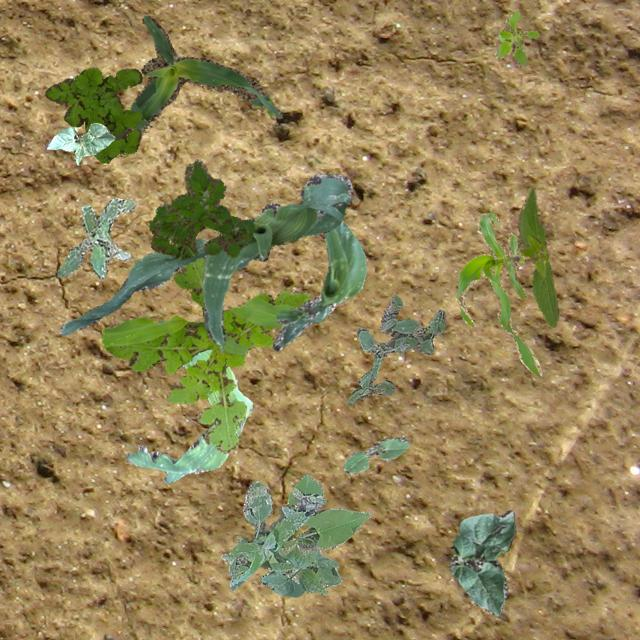crop: (58, 172, 350, 352), (130, 15, 282, 132), (125, 348, 252, 482), (456, 212, 540, 376), (258, 474, 369, 596), (272, 218, 366, 349), (448, 510, 514, 614), (518, 187, 558, 326), (44, 122, 114, 164), (342, 436, 408, 474)
weed: (100, 255, 310, 452), (220, 480, 324, 590), (146, 158, 254, 258), (346, 294, 444, 404), (44, 66, 142, 162), (56, 196, 134, 278), (494, 10, 538, 64)
